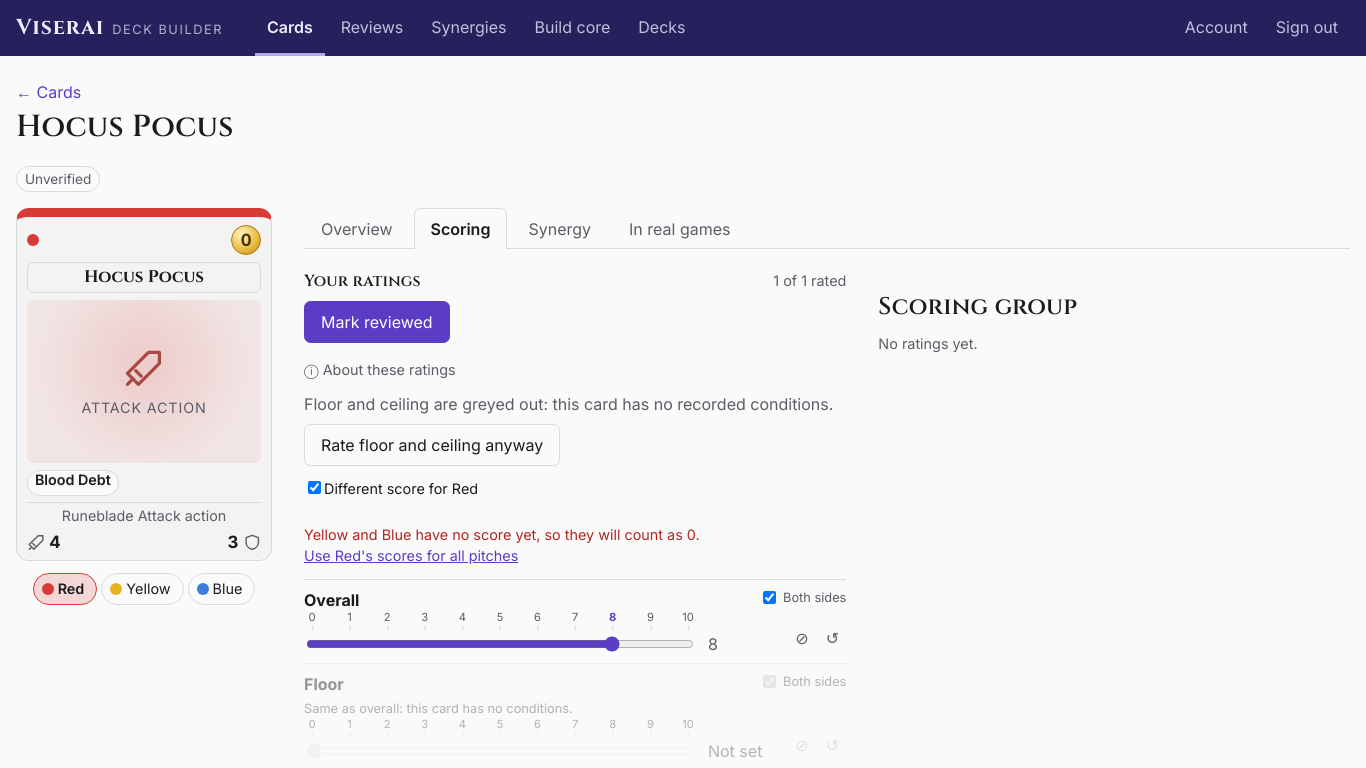
Scenario: Mark reviewed › shows the summary before confirming, highlighting blanks that count as 0
Click the button "Mark reviewed": (377, 322) [304,301,450,343]
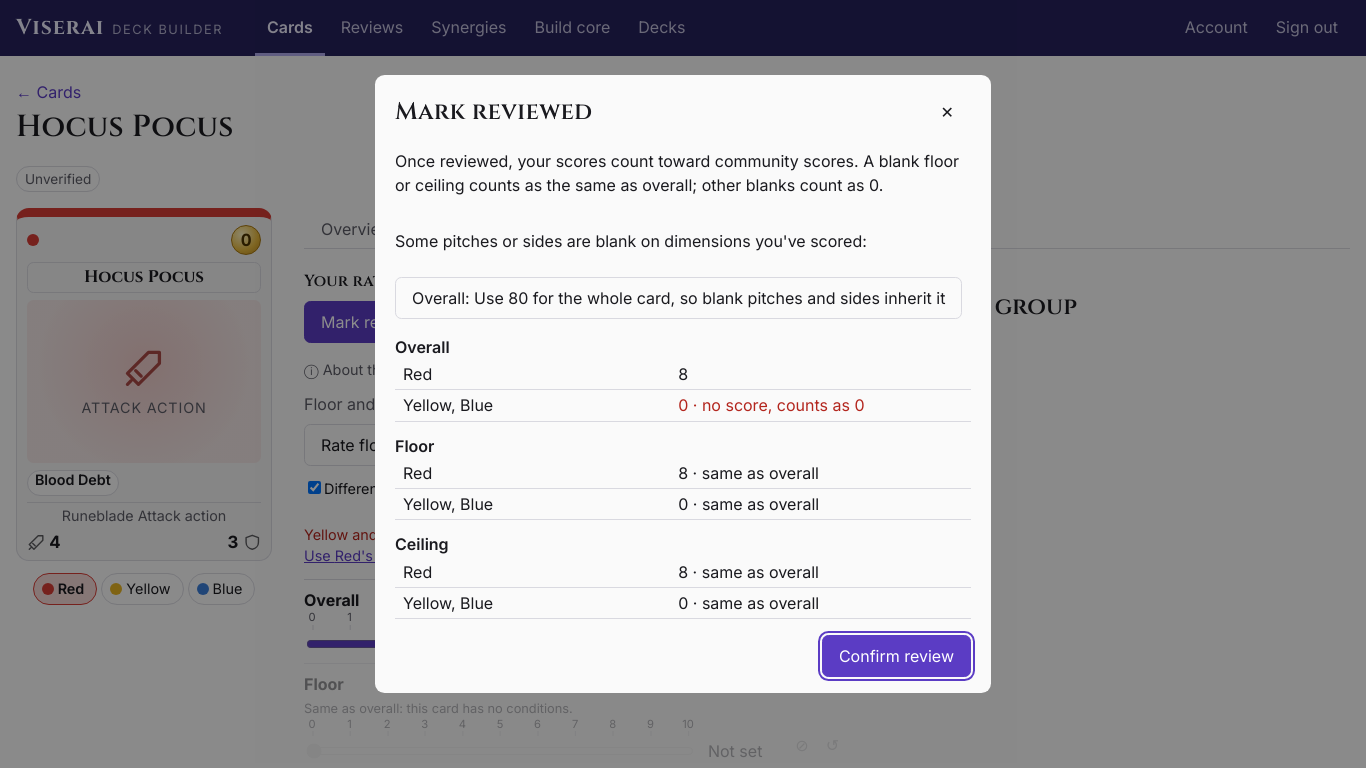
Now the text "8" is shown, box [670,359,971,390]
Now the text "0 · no score, counts as 0" is shown, box [670,390,971,421]
Now the column heading "Yellow, Blue" next to "0 · no score, counts as 0" is shown, box [403,395,493,415]
